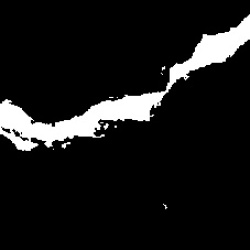crack: (3, 17, 249, 154)
pinhole: (158, 198, 173, 210)
